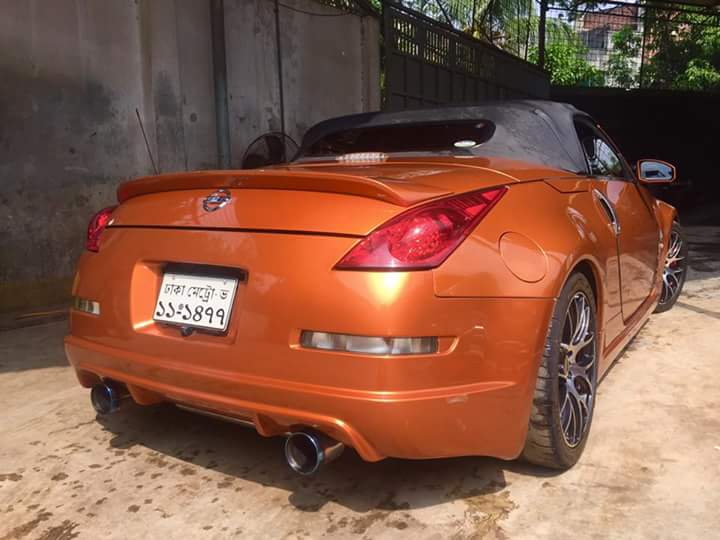registration_plate: (151, 272, 238, 333)
